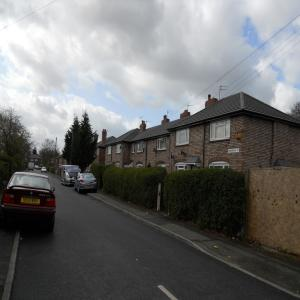Vehicle-registration-plate: (22, 198, 41, 205)
